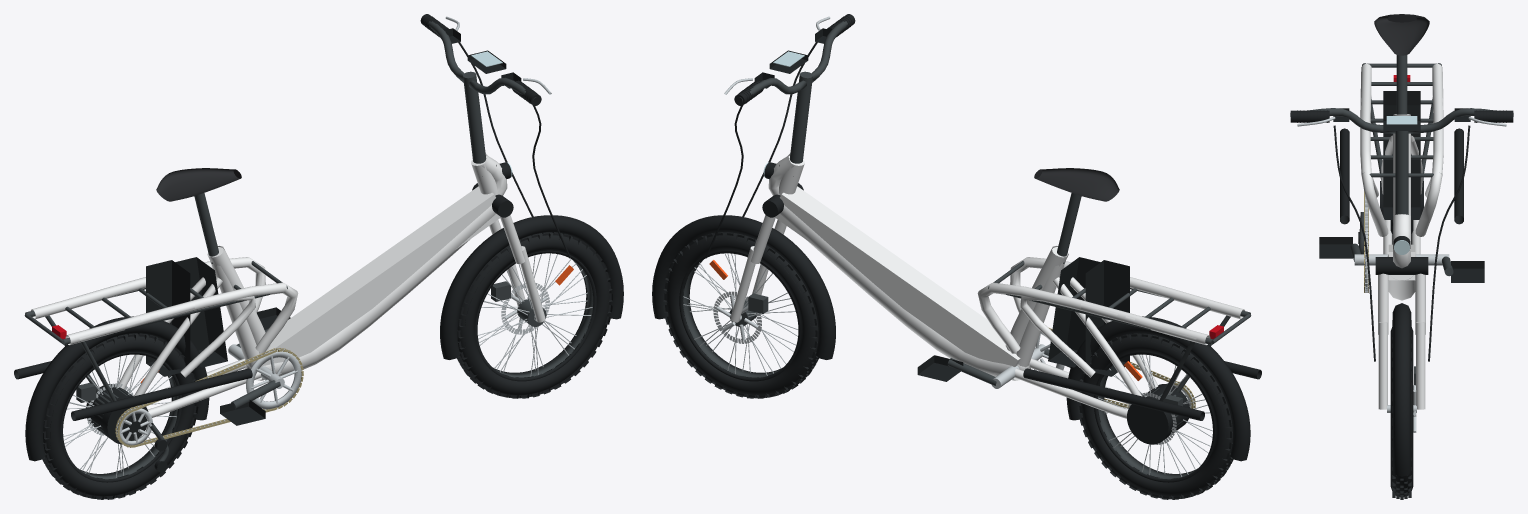
Rendered from lectric-xpedition.glb.
The picture shows the model from 3 angles, left to right: view 1: azimuth 30°, elevation 25°; view 2: azimuth 150°, elevation 25°; view 3: azimuth 270°, elevation 25°; orthographic projection.
Visible parts, largest first — view 1: Chassis | white, Bodywork | black, FrontWheel | rubber, RearWheel | rubber, Bodywork | white, BatteryMount | black, BatteryMount | white, Drive | steel, FrontWheel | steel, Cockpit | graphite, Bodywork | graphite, Bodywork | seat (+13 smaller); view 2: Chassis | white, Bodywork | black, FrontWheel | rubber, RearWheel | rubber, Bodywork | white, BatteryMount | black, BatteryMount | white, FrontWheel | steel, Cockpit | graphite, Bodywork | graphite, Bodywork | seat, MotorMount | black (+11 smaller); view 3: Bodywork | black, Bodywork | white, Fork | white, Chassis | white, Cockpit | graphite, Cockpit | rubber, BatteryMount | black, Bodywork | graphite, Bodywork | seat, Drive | black, FrontWheel | rubber, Cockpit | black (+7 smaller).
Boxes of the visible parts, x1,y1,x2,y2 form: Chassis | white: (119,153,507,417); Bodywork | black: (14,162,623,461); FrontWheel | rubber: (457,232,612,398); RearWheel | rubber: (42,333,198,499); Bodywork | white: (31,257,298,377); BatteryMount | black: (146,257,227,376); BatteryMount | white: (256,193,496,380); Drive | steel: (116,344,301,445); FrontWheel | steel: (477,253,592,376); Cockpit | graphite: (428,21,535,163); Bodywork | graphite: (24,261,287,401); Bodywork | seat: (156,168,241,201); Chassis | white: (768,153,1158,418); Bodywork | black: (652,162,1261,461); FrontWheel | rubber: (663,232,818,398); RearWheel | rubber: (1077,333,1233,499); Bodywork | white: (977,257,1244,377); BatteryMount | black: (1048,257,1129,376); BatteryMount | white: (779,193,1019,380); FrontWheel | steel: (683,253,798,375); Cockpit | graphite: (740,21,847,163); Bodywork | graphite: (988,261,1251,401); Bodywork | seat: (1034,168,1119,201); MotorMount | black: (1127,384,1189,444); Bodywork | black: (1340,128,1463,476); Bodywork | white: (1360,63,1443,236); Fork | white: (1378,273,1425,409); Chassis | white: (1381,114,1422,280); Cockpit | graphite: (1290,108,1513,214); Cockpit | rubber: (1290,110,1513,361); BatteryMount | black: (1383,91,1420,219); Bodywork | graphite: (1362,63,1441,180); Bodywork | seat: (1374,14,1429,55); Drive | black: (1319,232,1484,282); FrontWheel | rubber: (1390,320,1413,499); Cockpit | black: (1297,108,1506,130).
Size of the model in its own units: 2.06 by 1.16 by 0.6634.
